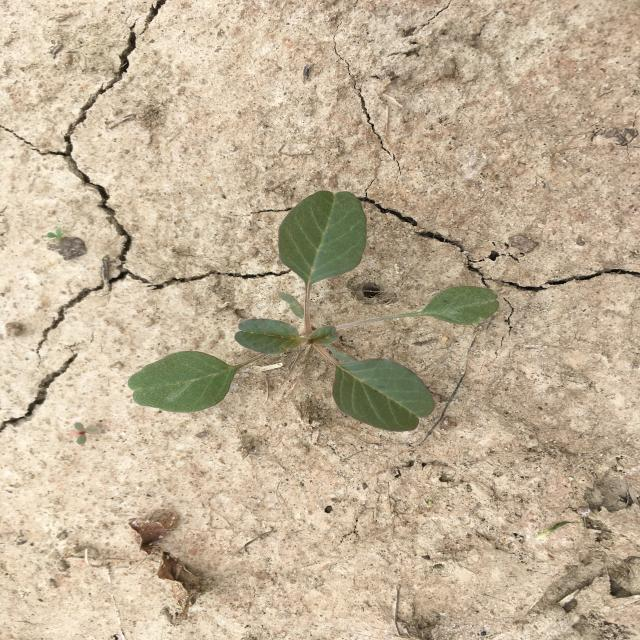PalmerAmaranth: (128, 191, 500, 432)
